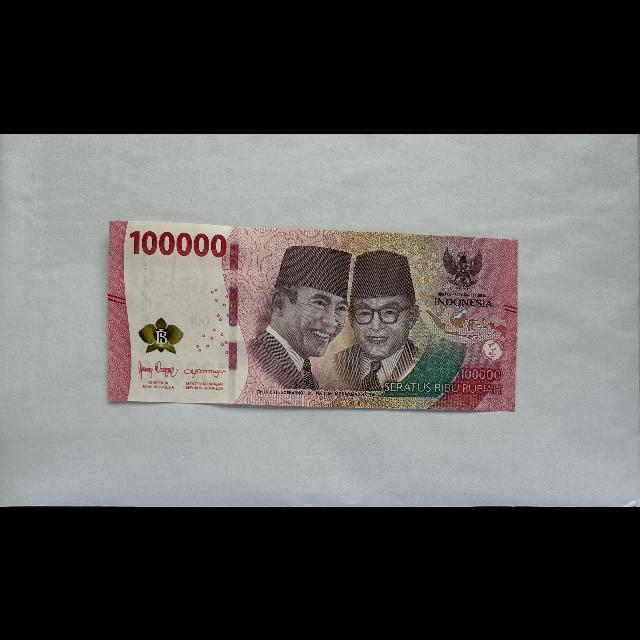Asli-100k: (106, 219, 519, 413)
Tinta-Asli-100k: (138, 316, 184, 355)
